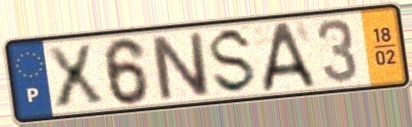3: (315, 15, 361, 87)
6: (101, 35, 154, 107)
A: (259, 19, 319, 95)
N: (147, 30, 214, 103)
S: (208, 25, 259, 97)
X: (42, 41, 108, 111)
